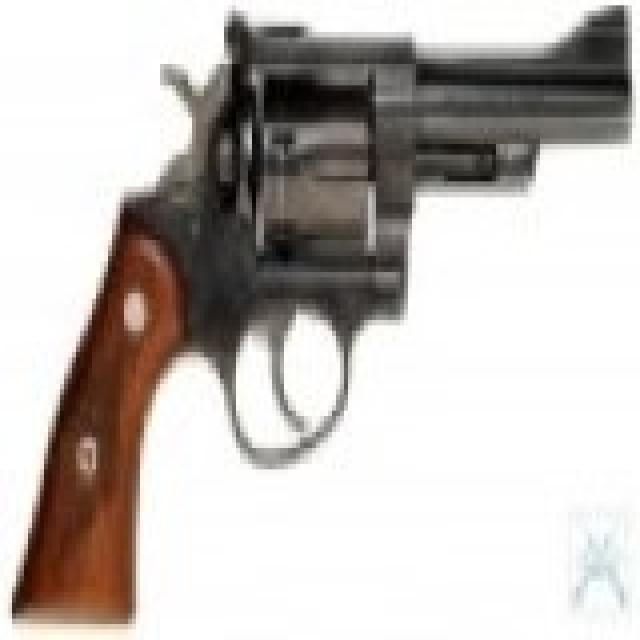pistol: (24, 0, 640, 613)
